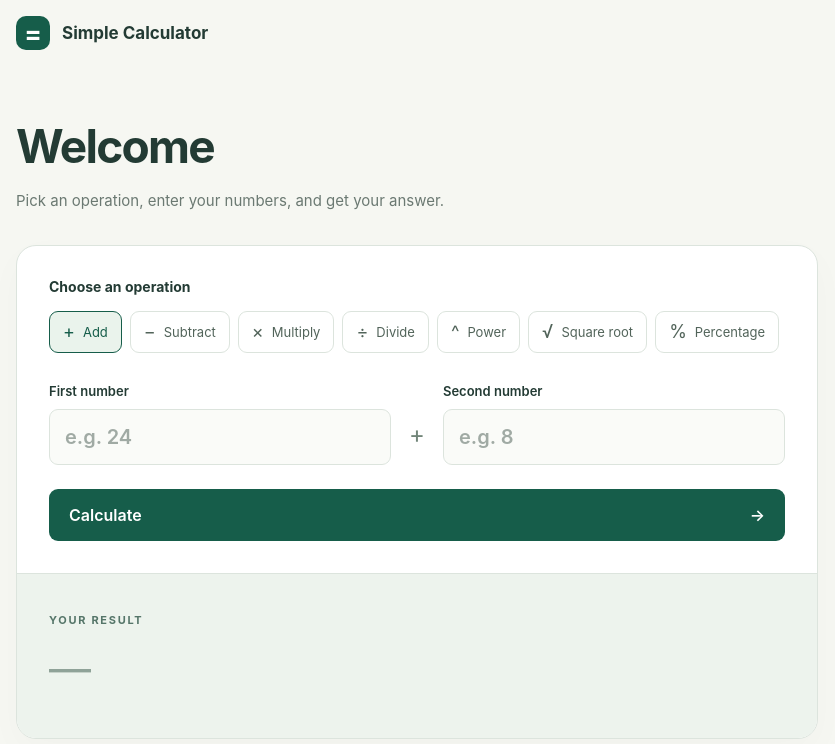
Scenario: Calculator › calculates Add through the API
The width and height of the screenshot is (835, 744).
Type "24" into the number field labelled "First number" at (220, 437), box left=49, top=409, right=391, bottom=465
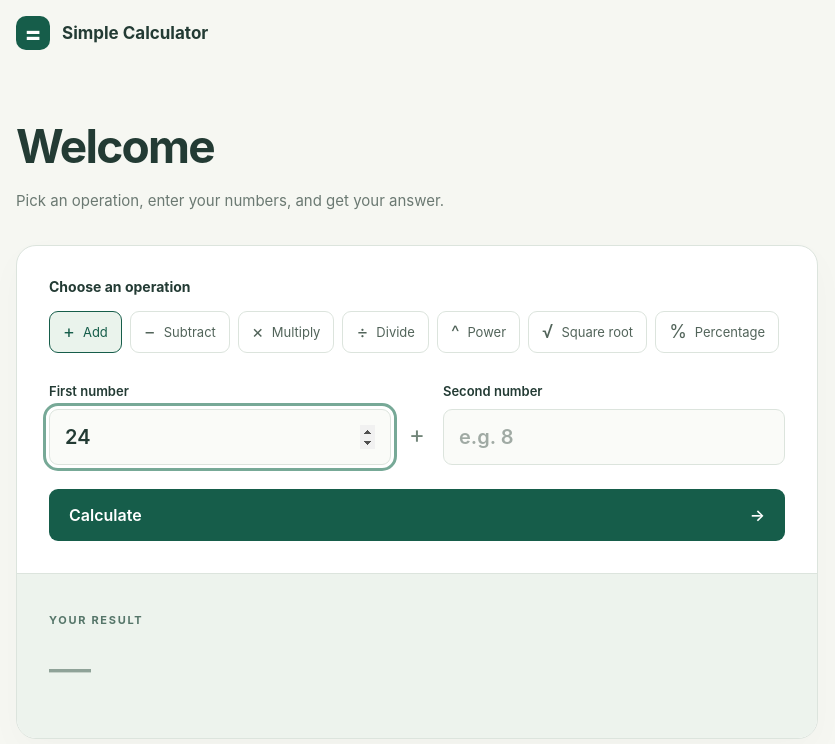
Type "8" into the number field labelled "Second number" at (614, 437), box left=443, top=409, right=785, bottom=465
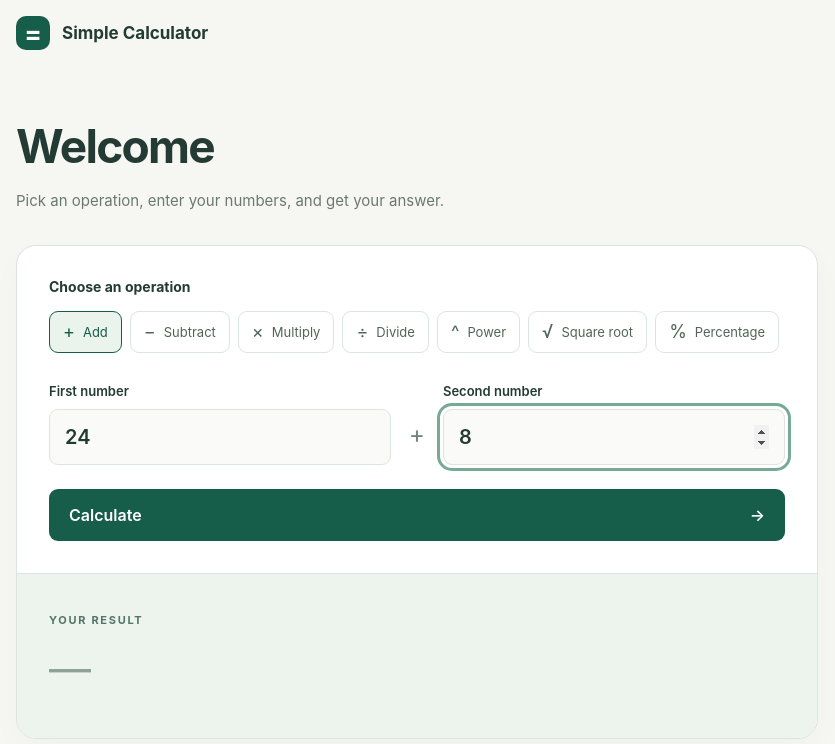
Click the button "+ Add" at (85, 332), box left=49, top=311, right=122, bottom=353
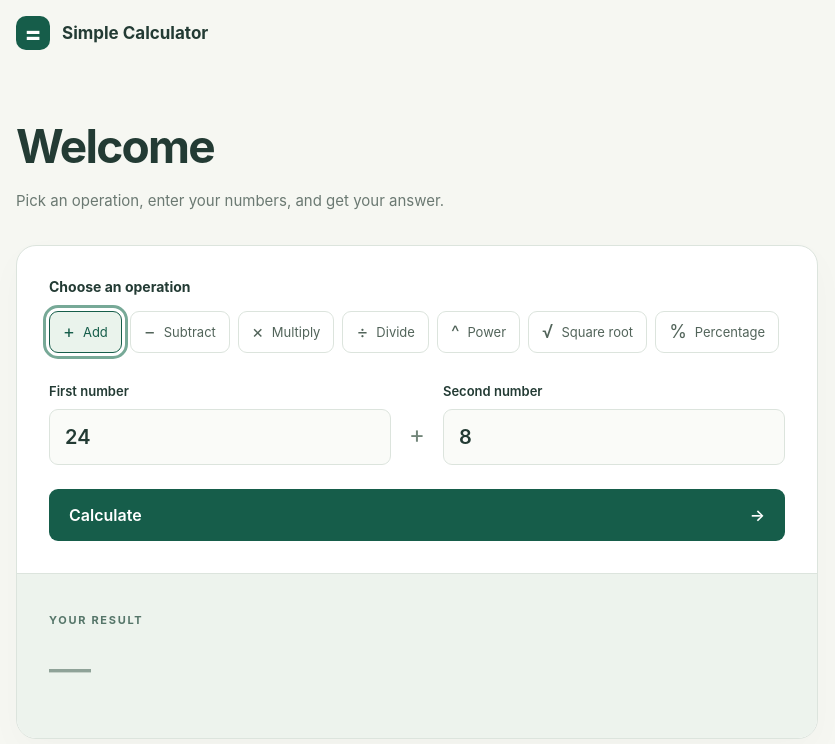
Click the button "Calculate →" at (105, 515), box left=49, top=489, right=785, bottom=541
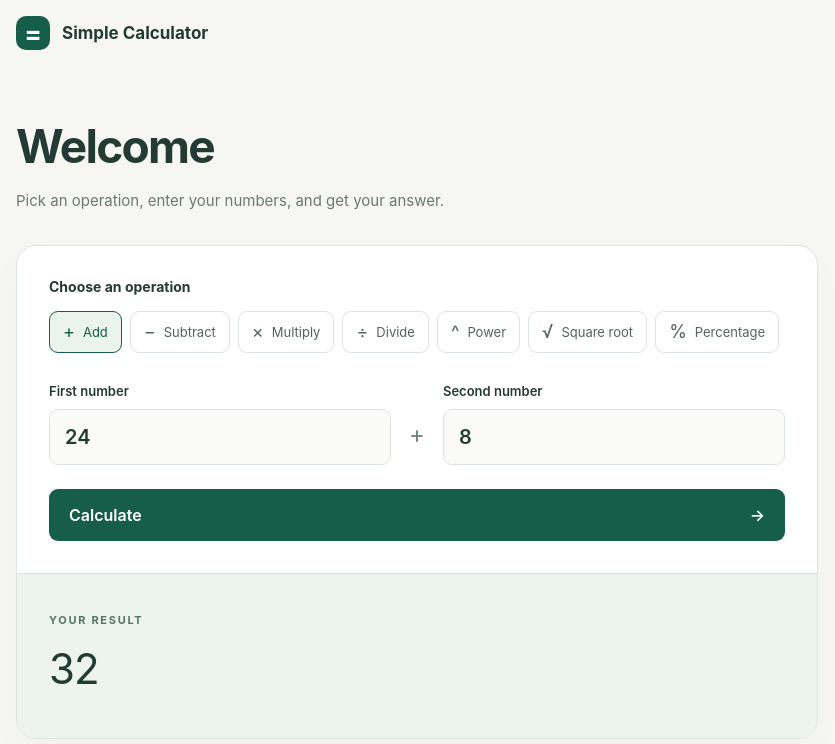
Result: the message shows "32" at left=49, top=643, right=99, bottom=694
